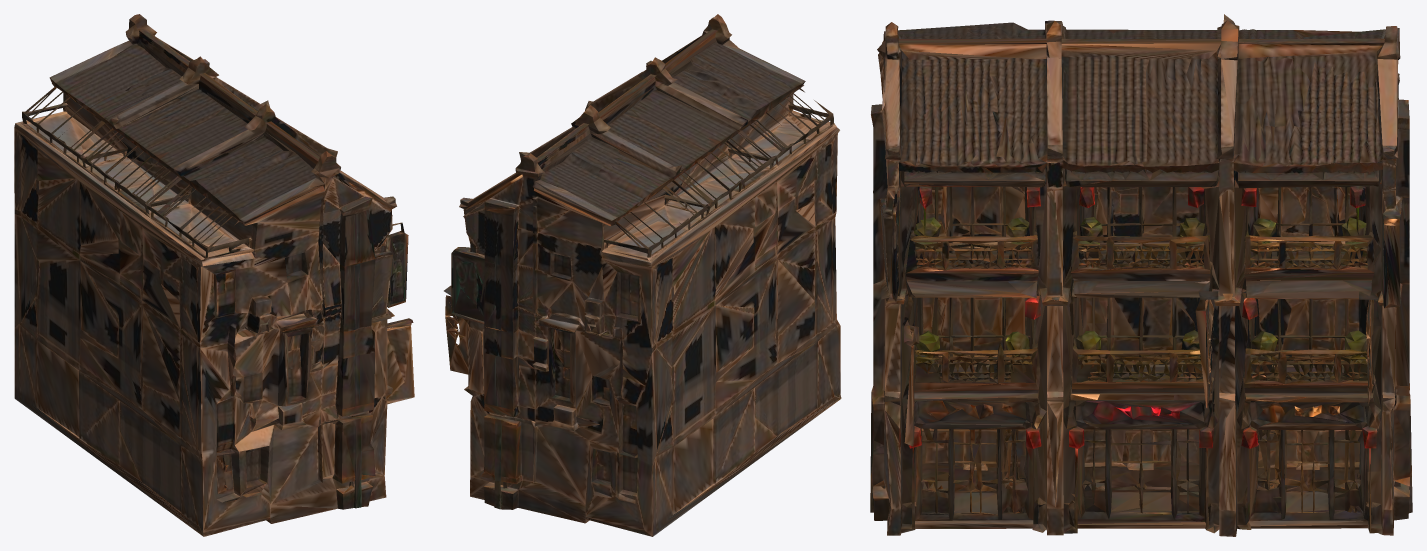
3 views of the same model, side by side, from view 1: azimuth 30°, elevation 25°; view 2: azimuth 150°, elevation 25°; view 3: azimuth 270°, elevation 25° (orthographic). The views are drawn at different scales.
Parts seen in each view (by area): view 1: o02; view 2: o02; view 3: o02.
Part boxes in pixels (x1=…): o02: x1=14, y1=14, x2=414, y2=536; o02: x1=444, y1=14, x2=841, y2=536; o02: x1=870, y1=14, x2=1412, y2=536.
Size of the model in its own units: 15.1 by 24 by 24.66.
1 material, 1 textured.
